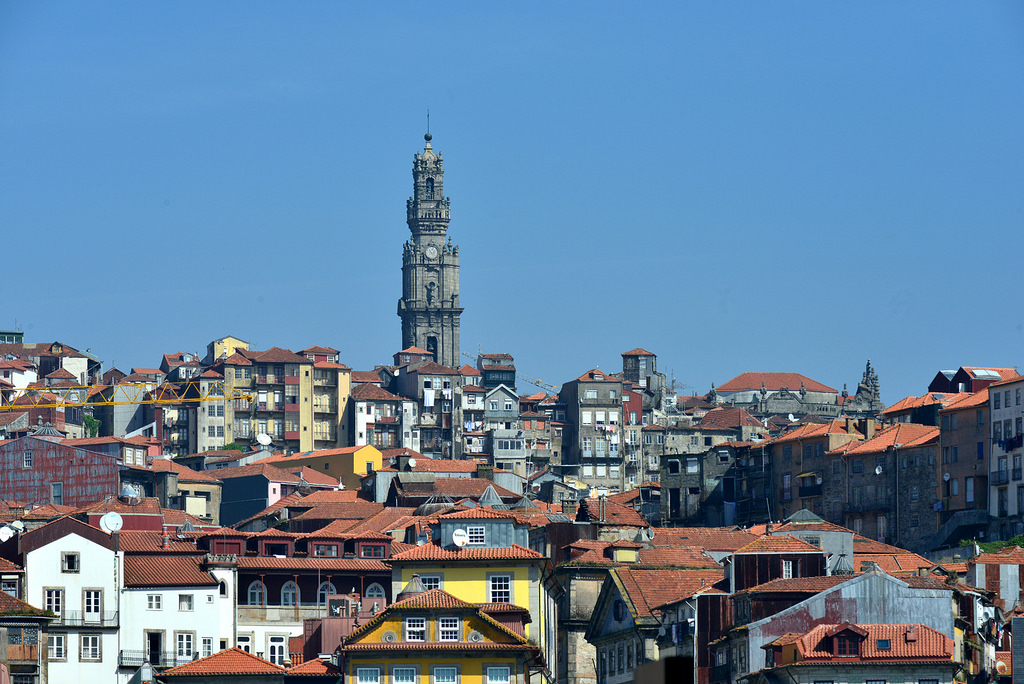clerigos: (395, 105, 463, 373)
